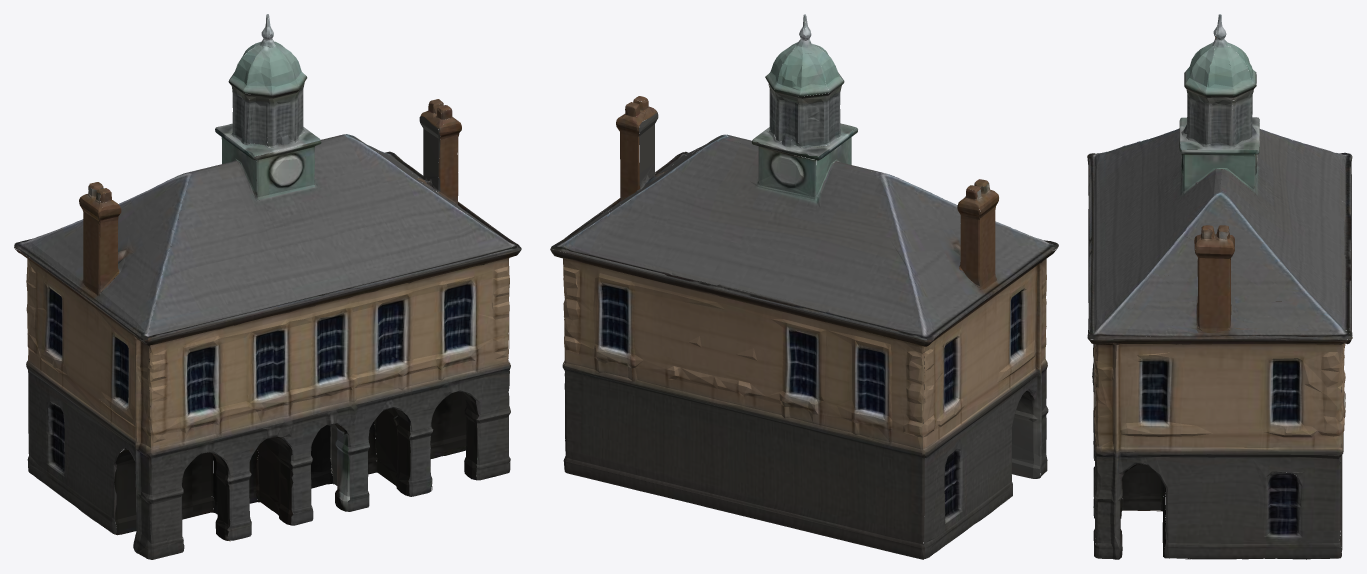
File: customs_house_v2.glb
3 renders of one model, left to right at view 1: azimuth 30°, elevation 25°; view 2: azimuth 150°, elevation 25°; view 3: azimuth 270°, elevation 25°, orthographic.
Parts seen in each view (by area): view 1: tmptk6_o71n.ply; view 2: tmptk6_o71n.ply; view 3: tmptk6_o71n.ply.
Part boxes in pixels (x1=…): tmptk6_o71n.ply: x1=14, y1=14, x2=521, y2=559; tmptk6_o71n.ply: x1=550, y1=14, x2=1058, y2=559; tmptk6_o71n.ply: x1=1087, y1=14, x2=1352, y2=559.
Size of the model in its own units: 22 by 25.22 by 13.26.
Materials: 1 (1 with a texture image).
